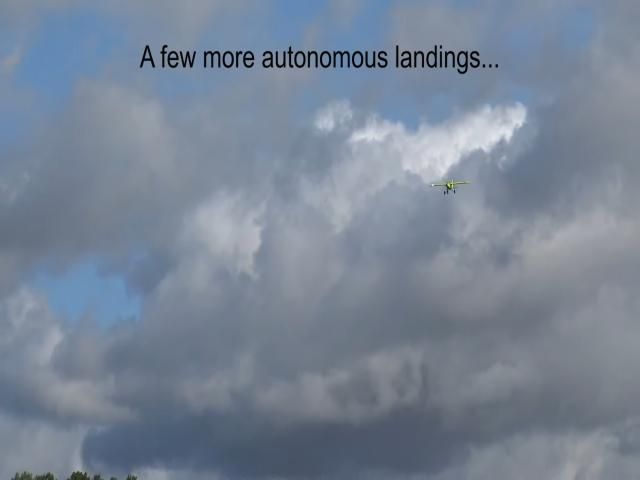plane: (431, 180, 468, 196)
